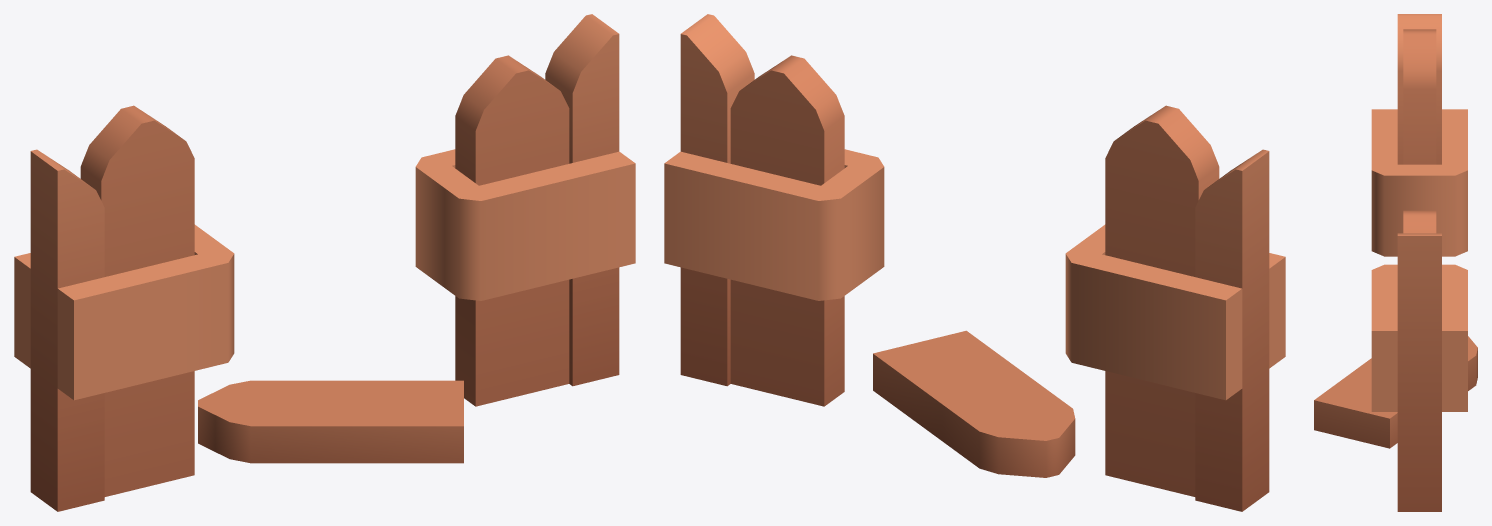
Rendered from fence-damaged.glb.
The picture shows the model from 3 angles, left to right: view 1: azimuth 30°, elevation 25°; view 2: azimuth 150°, elevation 25°; view 3: azimuth 270°, elevation 25°; orthographic projection. The views are drawn at different scales.
Visible parts, largest first — view 1: fence-damaged; view 2: fence-damaged; view 3: fence-damaged.
Boxes of the visible parts, x1=… form: fence-damaged: x1=14, y1=14, x2=635, y2=511; fence-damaged: x1=664, y1=14, x2=1285, y2=511; fence-damaged: x1=1314, y1=14, x2=1477, y2=511.
Size of the model in its own units: 20 by 12.4 by 6.24.
Materials: 1 (1 with a texture image).
